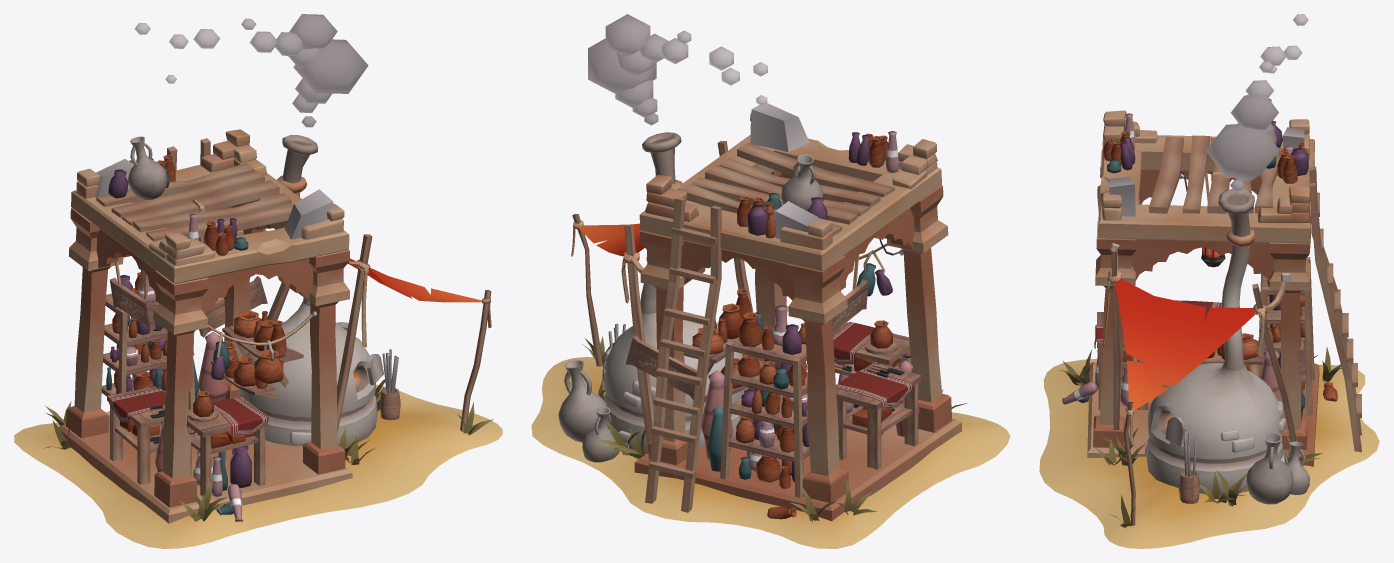
The picture shows the model from 3 angles, left to right: view 1: azimuth 30°, elevation 25°; view 2: azimuth 150°, elevation 25°; view 3: azimuth 270°, elevation 25°; orthographic projection. The views are drawn at different scales.
Parts seen in each view (by area): view 1: pCube69, pPlane7, pCube1, pPlatonic14, polySurface11, polySurface9, pCube6, pCube9, polySurface14, pCube7, pCube120, polySurface15 (+24 smaller); view 2: pCube69, pPlane7, pCube70, pCube1, pPlatonic14, polySurface11, polySurface15, pCube121, pCube8, pCube18, pCube26, pPlane8 (+29 smaller); view 3: pPlane7, pCube69, pPlane6, polySurface11, pPlatonic14, pCube70, polySurface9, pCube1, polySurface5, pCube121, pCube8, pasted__pCube11 (+13 smaller).
Boxes of the visible parts, x1,y1,x2,y2 form: pCube69: (66, 165, 349, 507); pPlane7: (14, 384, 502, 548); pCube1: (58, 396, 352, 523); pPlatonic14: (135, 14, 368, 127); polySurface11: (239, 301, 375, 417); polySurface9: (240, 394, 377, 446); pCube6: (122, 180, 279, 225); pCube9: (111, 171, 264, 217); polySurface14: (187, 425, 265, 497); pCube7: (132, 193, 291, 232); pCube120: (128, 136, 167, 199); polySurface15: (110, 405, 161, 484); pCube69: (639, 135, 952, 502); pPlane7: (531, 357, 1010, 548); pCube70: (645, 197, 721, 512); pCube1: (634, 393, 961, 521); pPlatonic14: (588, 14, 767, 125); polySurface11: (603, 313, 747, 416); polySurface15: (836, 383, 918, 469); pCube121: (558, 360, 607, 442); pCube8: (737, 142, 894, 197); pCube18: (750, 103, 809, 152); pCube26: (624, 225, 653, 449); pPlane8: (836, 368, 912, 408); pPlane7: (1039, 359, 1379, 548); pCube69: (1093, 135, 1314, 449); pPlane6: (1115, 279, 1255, 410); polySurface11: (1148, 363, 1282, 459); pPlatonic14: (1206, 14, 1308, 190); pCube70: (1309, 166, 1361, 452); polySurface9: (1146, 438, 1283, 495); pCube1: (1087, 362, 1319, 466); polySurface5: (1221, 211, 1250, 370); pCube121: (1246, 432, 1293, 504); pCube8: (1149, 136, 1183, 213); pasted__pCube11: (1257, 186, 1310, 222).
Bounding box in the file's own units: 2.37 × 2.36 × 1.78.
3 materials, 2 textured.
